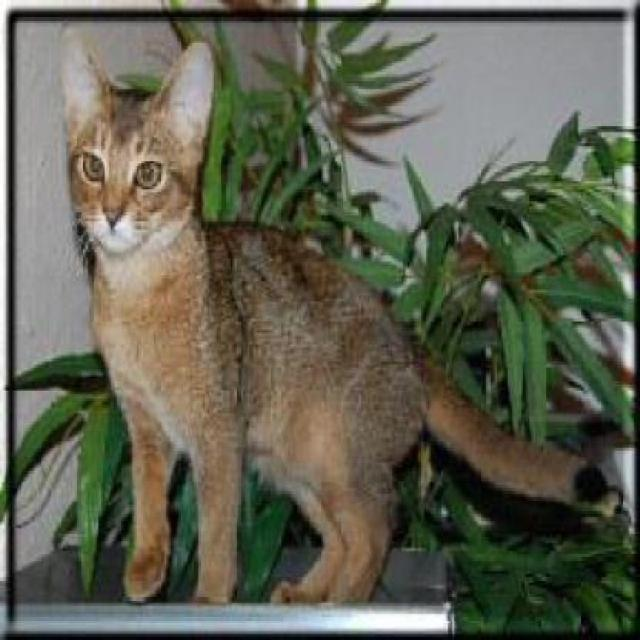cat: (57, 19, 601, 612)
